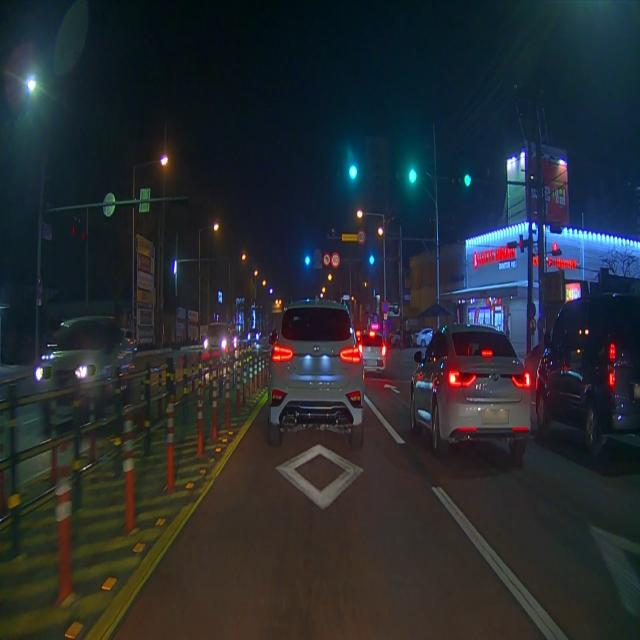Green Light: (348, 163, 358, 183), (409, 168, 419, 186), (463, 172, 472, 188), (369, 256, 375, 266), (305, 256, 310, 265)
